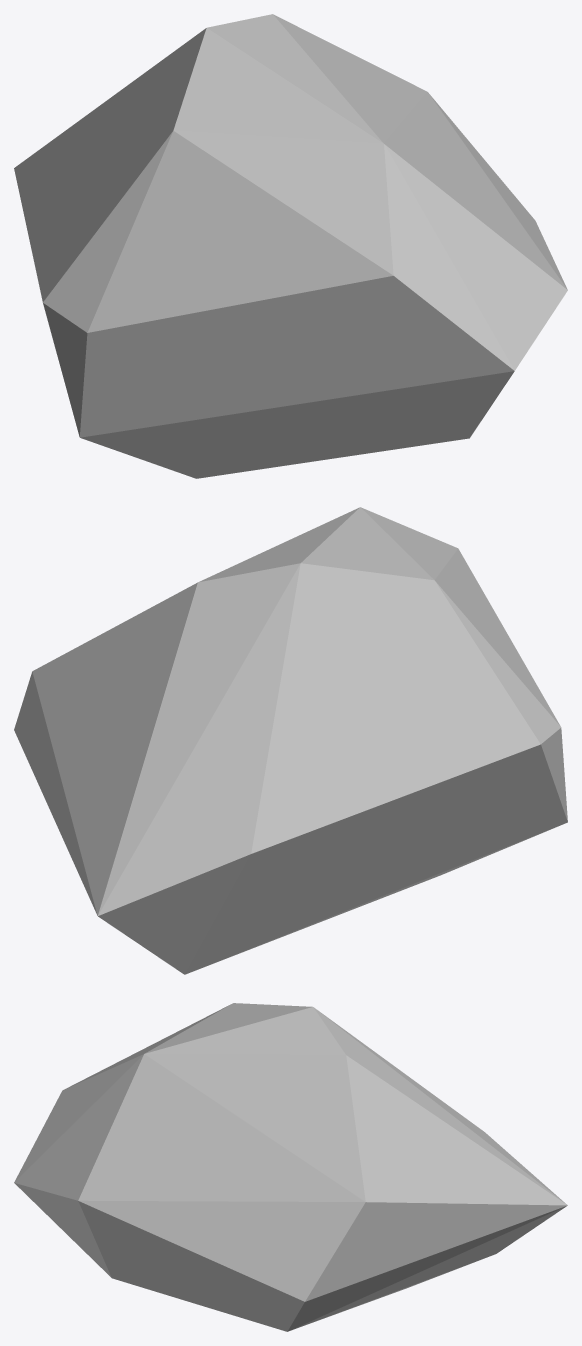
Rendered from SPW_Natures_Stone_12.glb.
3 views of the same model, one above another, from view 1: azimuth 30°, elevation 25°; view 2: azimuth 150°, elevation 25°; view 3: azimuth 270°, elevation 25° (orthographic). The views are drawn at different scales.
Visible parts, largest first — view 1: SPW_Natures_Stone_12; view 2: SPW_Natures_Stone_12; view 3: SPW_Natures_Stone_12.
Boxes of the visible parts, x1,y1,x2,y2 form: SPW_Natures_Stone_12: [14, 14, 567, 478]; SPW_Natures_Stone_12: [14, 507, 567, 974]; SPW_Natures_Stone_12: [14, 1003, 567, 1331].
Bounding box in the file's own units: 3.6 × 2.46 × 4.63.
1 material, 1 textured.
